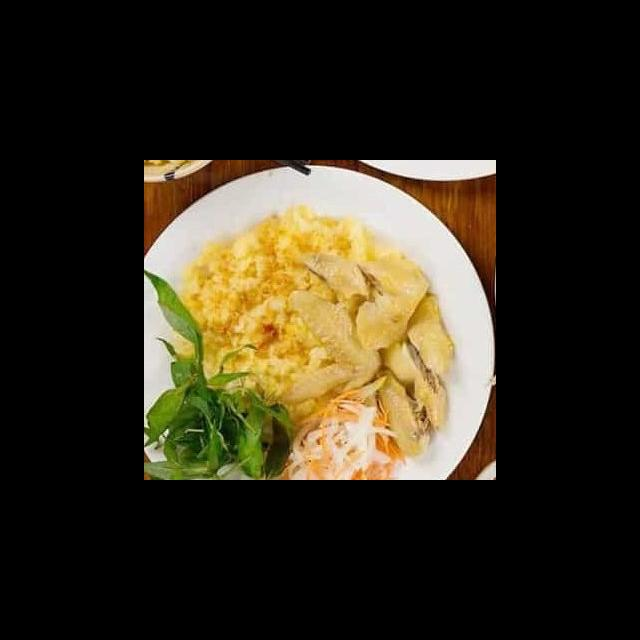com: (169, 200, 346, 392)
com ga: (159, 187, 465, 480)
rau ram: (145, 366, 297, 480), (145, 263, 208, 391)
thit ga: (286, 287, 385, 397), (346, 248, 432, 355), (376, 336, 452, 434), (364, 361, 435, 460), (298, 248, 375, 323), (400, 289, 456, 379)
